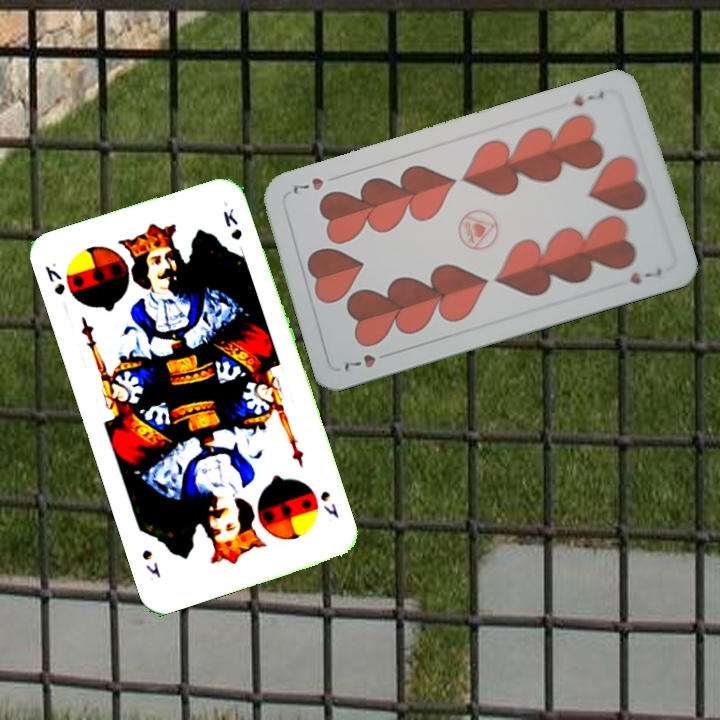H7: (340, 348, 395, 374), (569, 86, 607, 109)
SK: (40, 259, 68, 298), (316, 486, 342, 521)
